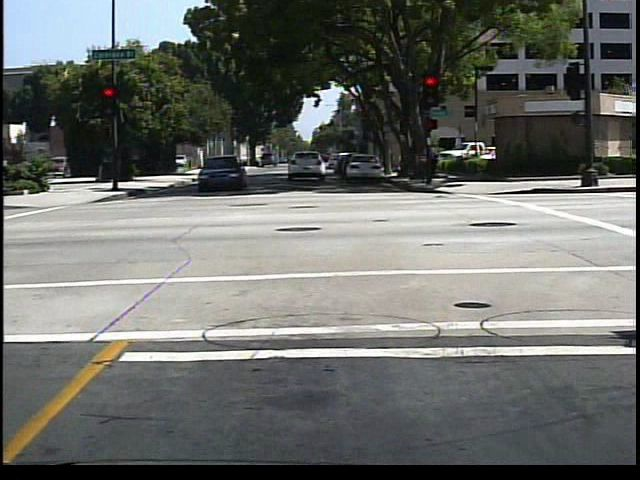person: (422, 137, 442, 187)
